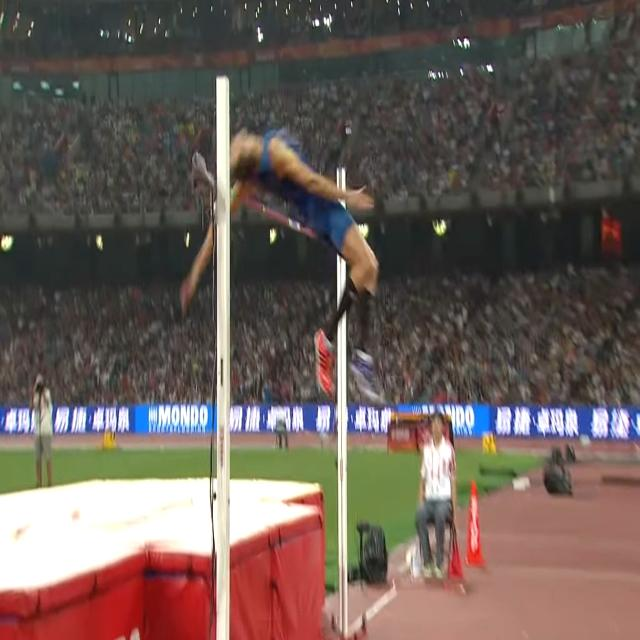jump: (180, 130, 386, 403)
